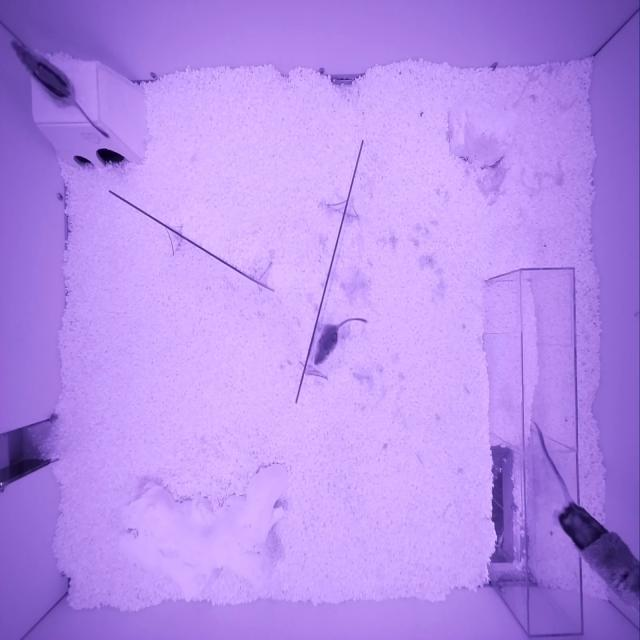adult_back: (552, 502, 640, 617)
pup_spotted: (314, 324, 337, 365)
pup_v_stripe: (10, 38, 76, 106)
